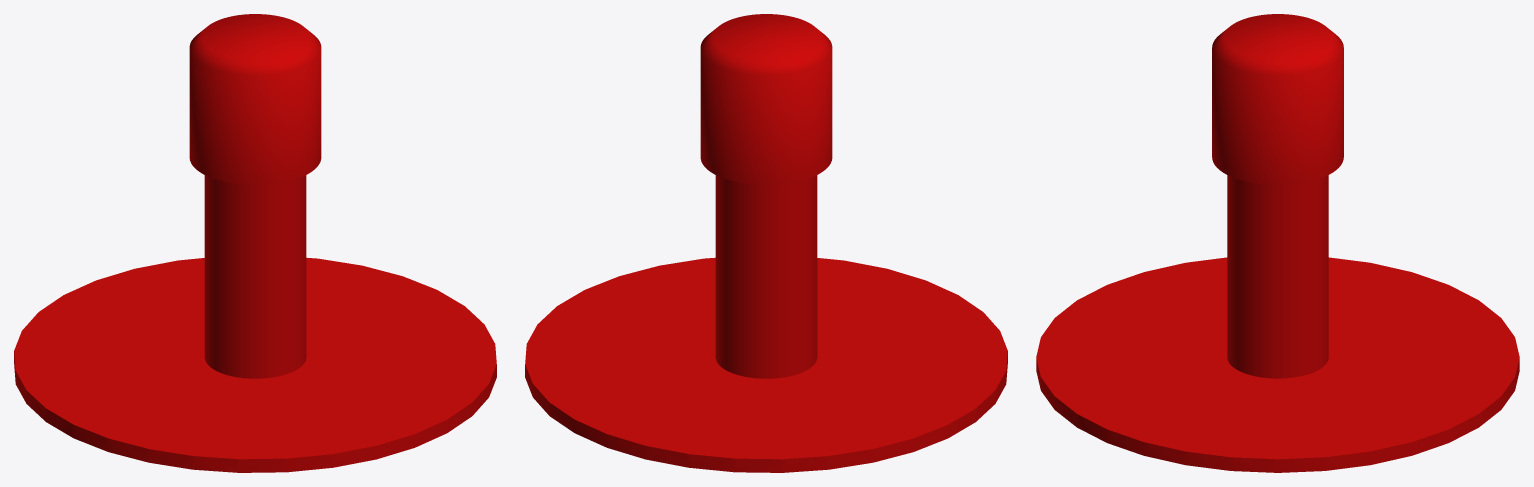
Rendered from PowerPeg.obj.
3 views of the same model, side by side, from view 1: azimuth 30°, elevation 25°; view 2: azimuth 150°, elevation 25°; view 3: azimuth 270°, elevation 25° (orthographic).
Parts seen in each view (by area): view 1: Cylinder_Cylinder.001, Cylinder.002_Cylinder.003, Cylinder.001_Cylinder.002; view 2: Cylinder_Cylinder.001, Cylinder.002_Cylinder.003, Cylinder.001_Cylinder.002; view 3: Cylinder_Cylinder.001, Cylinder.002_Cylinder.003, Cylinder.001_Cylinder.002.
Part boxes in pixels (left/top/right/bottom): Cylinder_Cylinder.001: left=14, top=257, right=496, bottom=472; Cylinder.002_Cylinder.003: left=189, top=14, right=321, bottom=184; Cylinder.001_Cylinder.002: left=204, top=175, right=306, bottom=378; Cylinder_Cylinder.001: left=525, top=257, right=1007, bottom=472; Cylinder.002_Cylinder.003: left=700, top=14, right=832, bottom=184; Cylinder.001_Cylinder.002: left=715, top=175, right=817, bottom=378; Cylinder_Cylinder.001: left=1036, top=257, right=1519, bottom=472; Cylinder.002_Cylinder.003: left=1212, top=14, right=1343, bottom=184; Cylinder.001_Cylinder.002: left=1227, top=175, right=1328, bottom=378.
Size of the model in its own units: 0.1016 by 0.08 by 0.1016.
